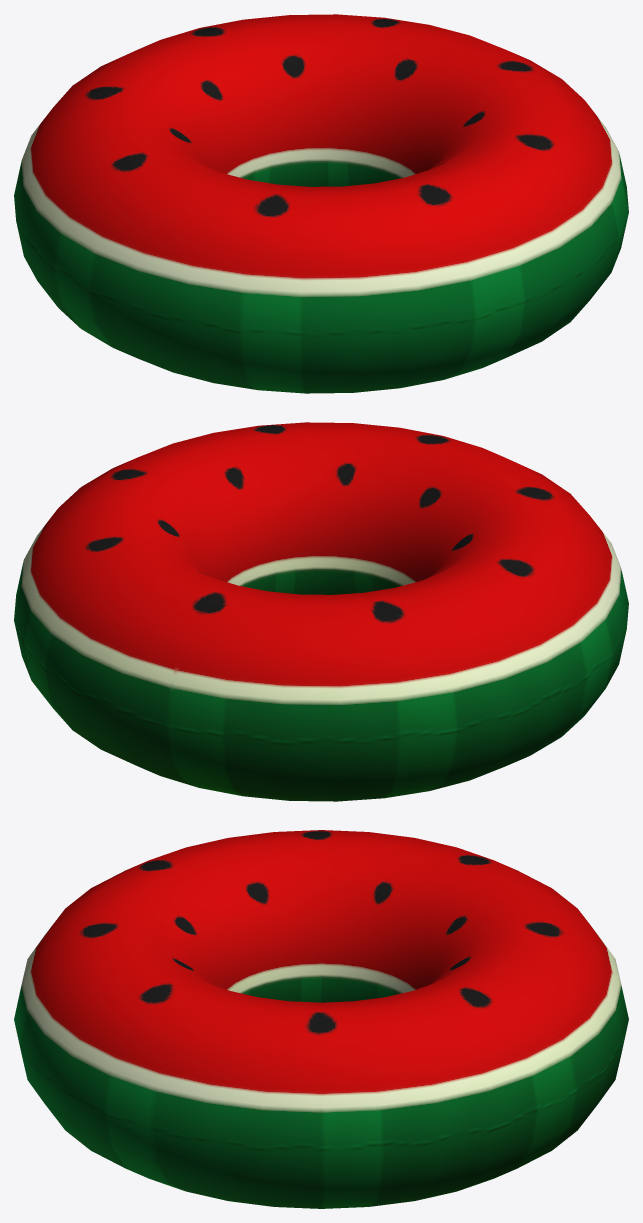
The model's file is Phao2.fbx.
3 views of the same model, one above another, from view 1: azimuth 30°, elevation 25°; view 2: azimuth 150°, elevation 25°; view 3: azimuth 270°, elevation 25° (orthographic).
Parts seen in each view (by area): view 1: SwimmingRingWatermelon_SwimmingRingWatermelon_0.001; view 2: SwimmingRingWatermelon_SwimmingRingWatermelon_0.001; view 3: SwimmingRingWatermelon_SwimmingRingWatermelon_0.001.
Boxes of the visible parts, x1,y1,x2,y2 form: SwimmingRingWatermelon_SwimmingRingWatermelon_0.001: [14, 14, 628, 393]; SwimmingRingWatermelon_SwimmingRingWatermelon_0.001: [14, 422, 628, 801]; SwimmingRingWatermelon_SwimmingRingWatermelon_0.001: [14, 830, 628, 1208].
Size of the model in its own units: 1.52 by 0.5088 by 1.52.
